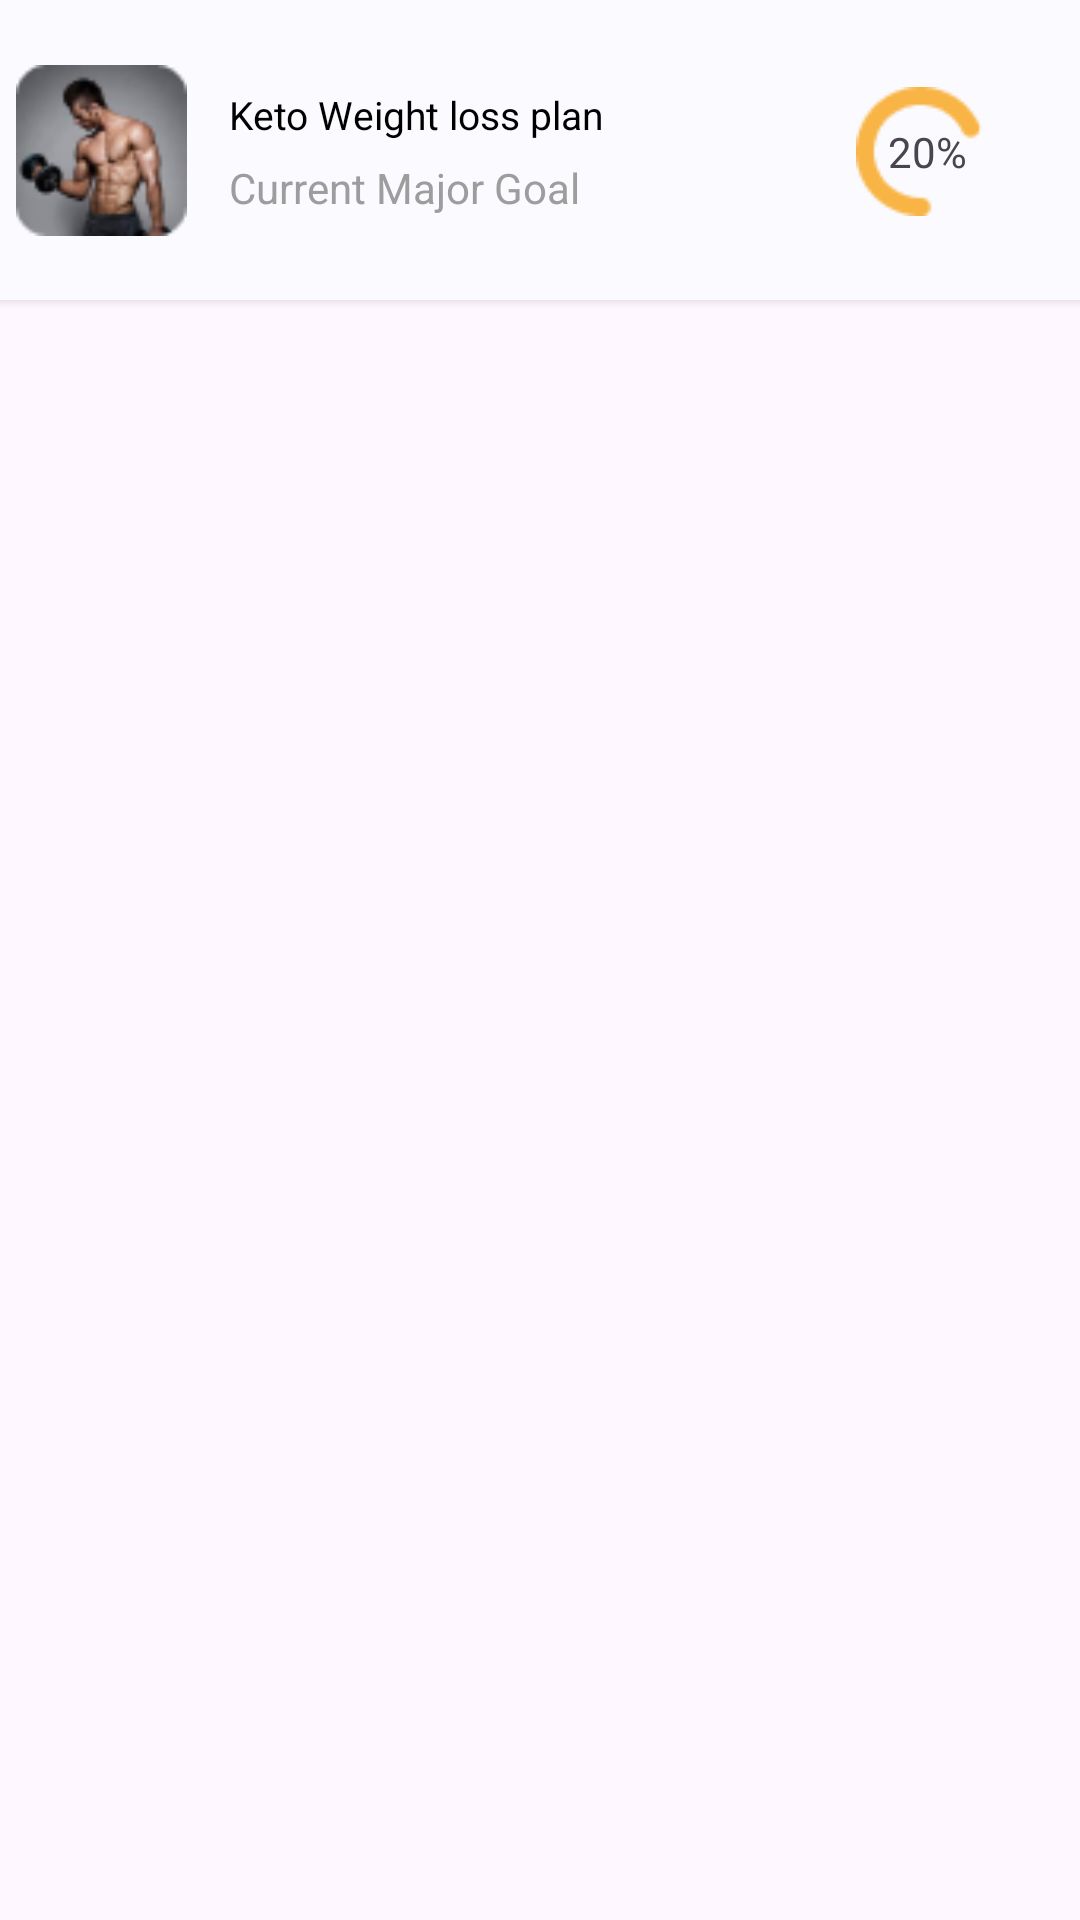

Screen size 1080*1920. Icon name, then its box in pixels as (x1, y1, x2, y2):
bitmap: (16, 65, 187, 236)
